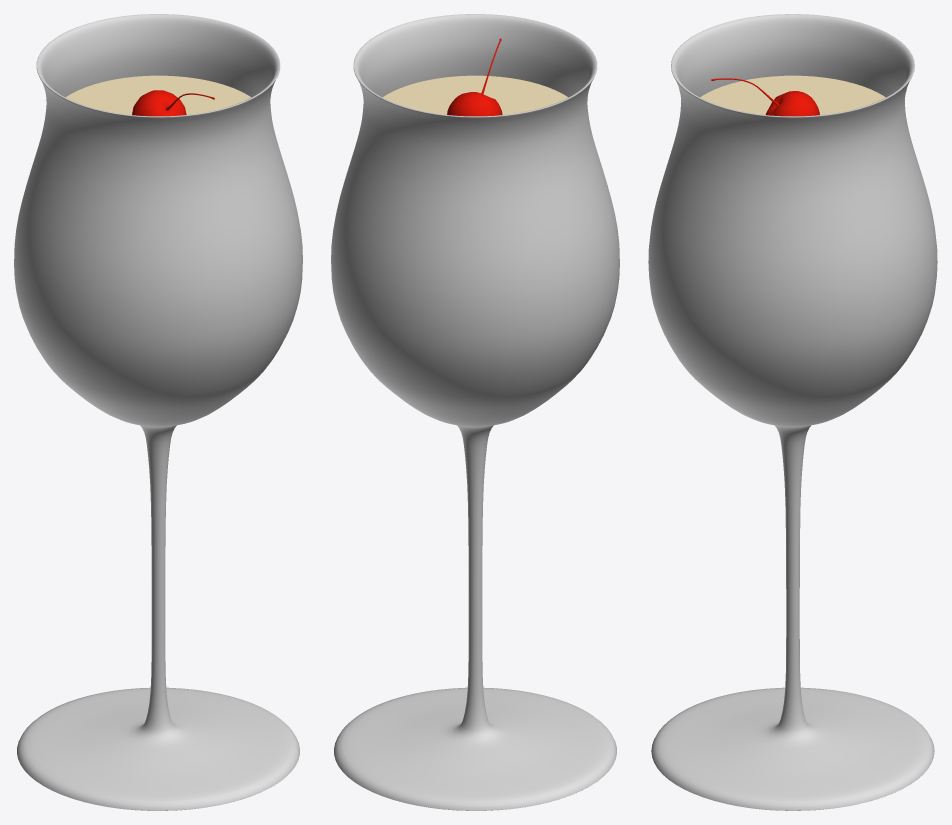
File: untitled.fbx_pina_colada.fbx
3 views of the same model, side by side, from view 1: azimuth 30°, elevation 25°; view 2: azimuth 150°, elevation 25°; view 3: azimuth 270°, elevation 25° (orthographic).
Visible parts, largest first — view 1: Circle.015, Circle.014, pSphere2.001; view 2: Circle.015, Circle.014, pSphere2.001; view 3: Circle.015, Circle.014, pSphere2.001.
Boxes of the visible parts, x1,y1,x2,y2 form: Circle.015: [14, 14, 302, 810]; Circle.014: [66, 75, 250, 114]; pSphere2.001: [132, 90, 186, 116]; Circle.015: [331, 14, 619, 810]; Circle.014: [383, 75, 567, 114]; pSphere2.001: [447, 92, 502, 116]; Circle.015: [648, 14, 937, 810]; Circle.014: [700, 75, 885, 114]; pSphere2.001: [765, 91, 819, 116].
Bounding box in the file's own units: 4.13 × 10.81 × 4.13.
